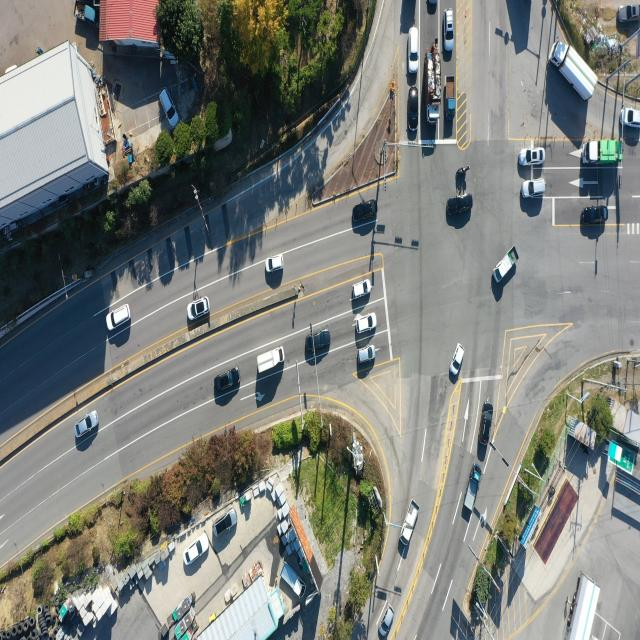car: (446, 195, 472, 226), (161, 83, 178, 128), (187, 535, 210, 567), (213, 368, 240, 394), (76, 412, 100, 439), (213, 508, 236, 536), (107, 305, 130, 332), (306, 330, 332, 353), (351, 200, 376, 223), (580, 206, 608, 226), (187, 298, 210, 322), (355, 312, 377, 335), (409, 87, 420, 133), (482, 404, 494, 446), (410, 27, 421, 72), (522, 147, 548, 166), (617, 3, 640, 24), (525, 181, 549, 201), (450, 342, 464, 376), (380, 606, 394, 638), (352, 279, 372, 300), (445, 11, 455, 51), (266, 254, 286, 273), (622, 107, 640, 128), (356, 345, 374, 365), (427, 0, 438, 16)
medium_truck: (548, 42, 594, 104), (565, 576, 600, 640), (425, 46, 439, 125), (584, 138, 623, 165)
small_truck: (256, 346, 286, 378), (493, 250, 518, 286), (463, 466, 480, 514), (402, 501, 419, 543), (280, 566, 304, 593), (75, 2, 97, 26), (446, 77, 457, 121)
